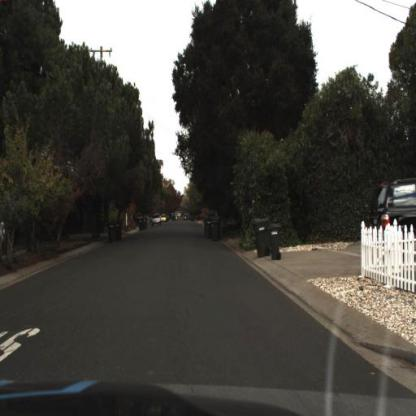car: (153, 215, 163, 227), (161, 216, 168, 224), (184, 215, 189, 222), (175, 215, 179, 221), (174, 218, 178, 222)
